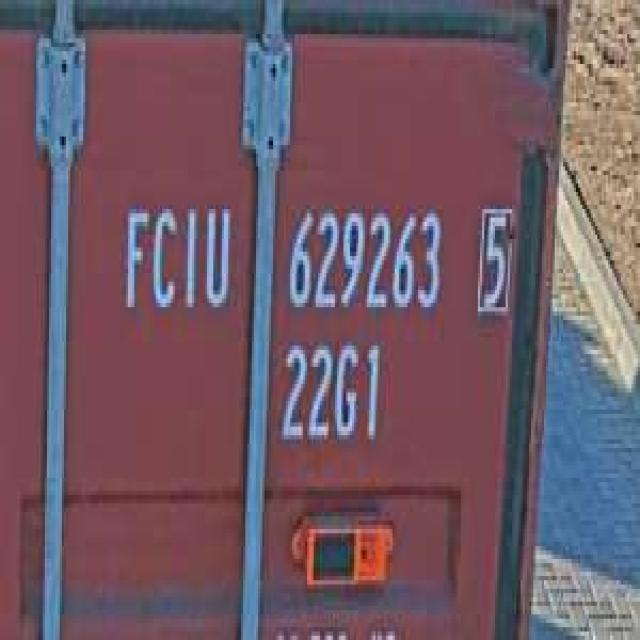dv: (472, 188, 518, 324)
owner: (117, 188, 235, 324)
serial: (279, 188, 446, 324)
size: (275, 333, 386, 456)
